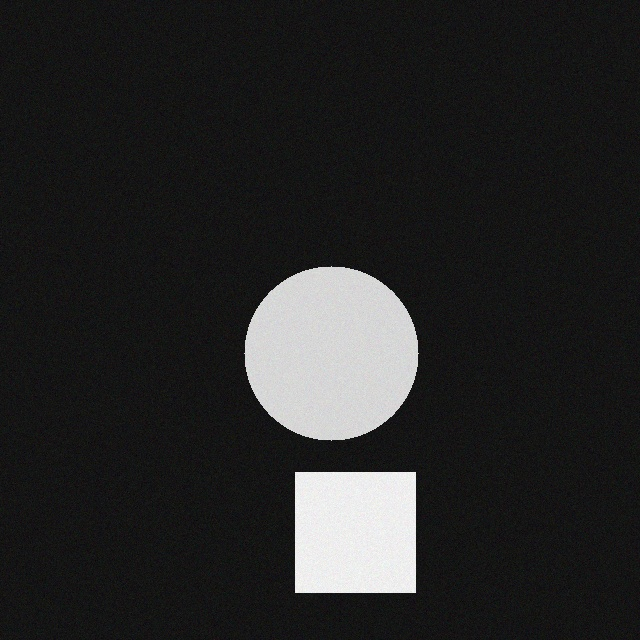circle: (248, 256, 422, 430)
square: (299, 462, 419, 582)
